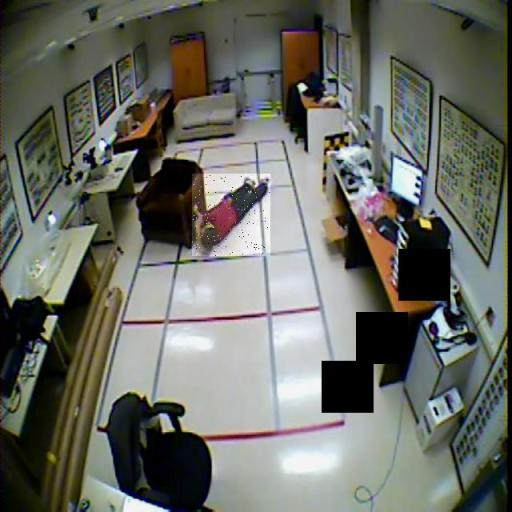Fall: (192, 174, 270, 256)
